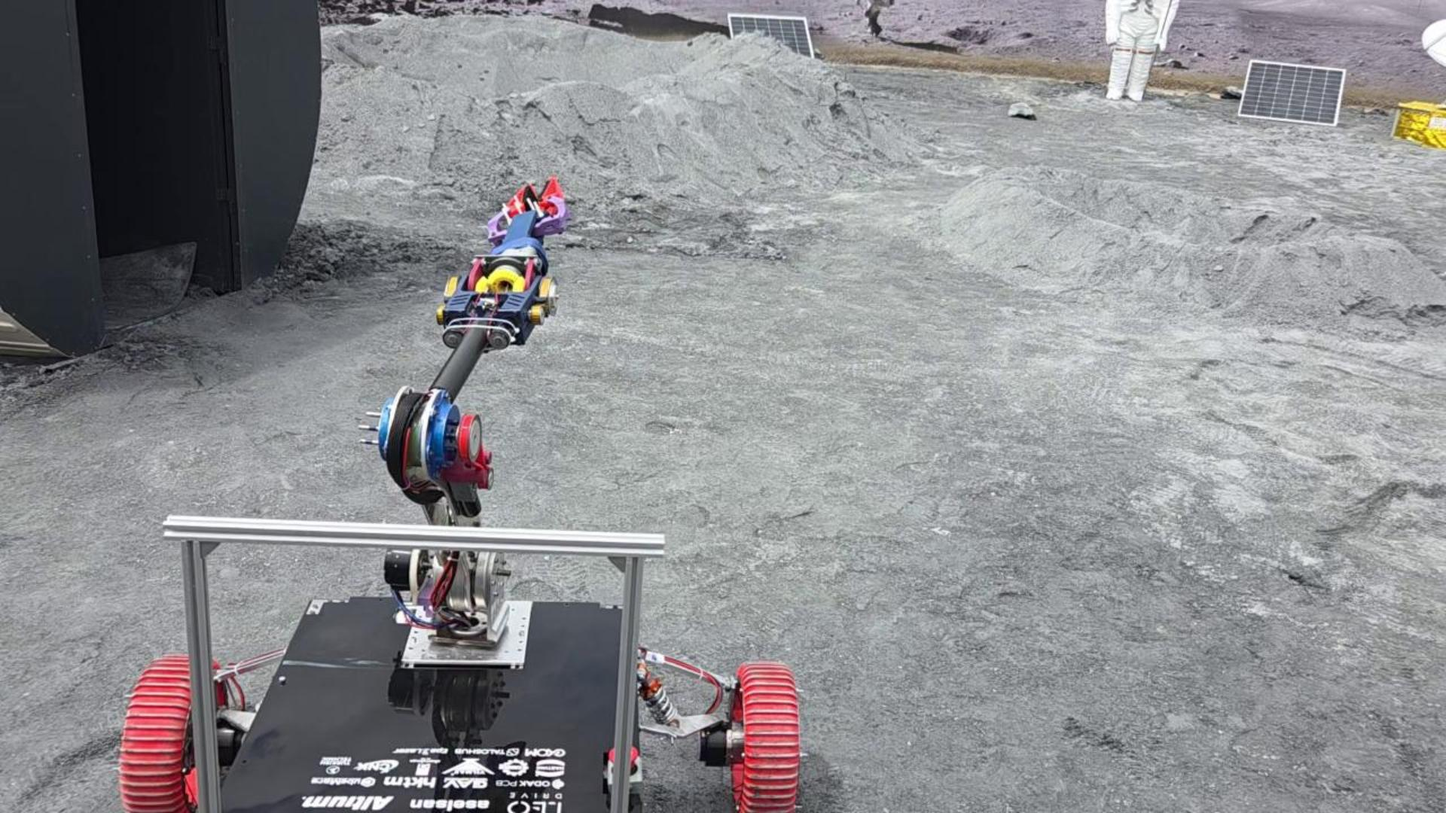rock: (1008, 103, 1035, 119), (1220, 86, 1243, 99)
